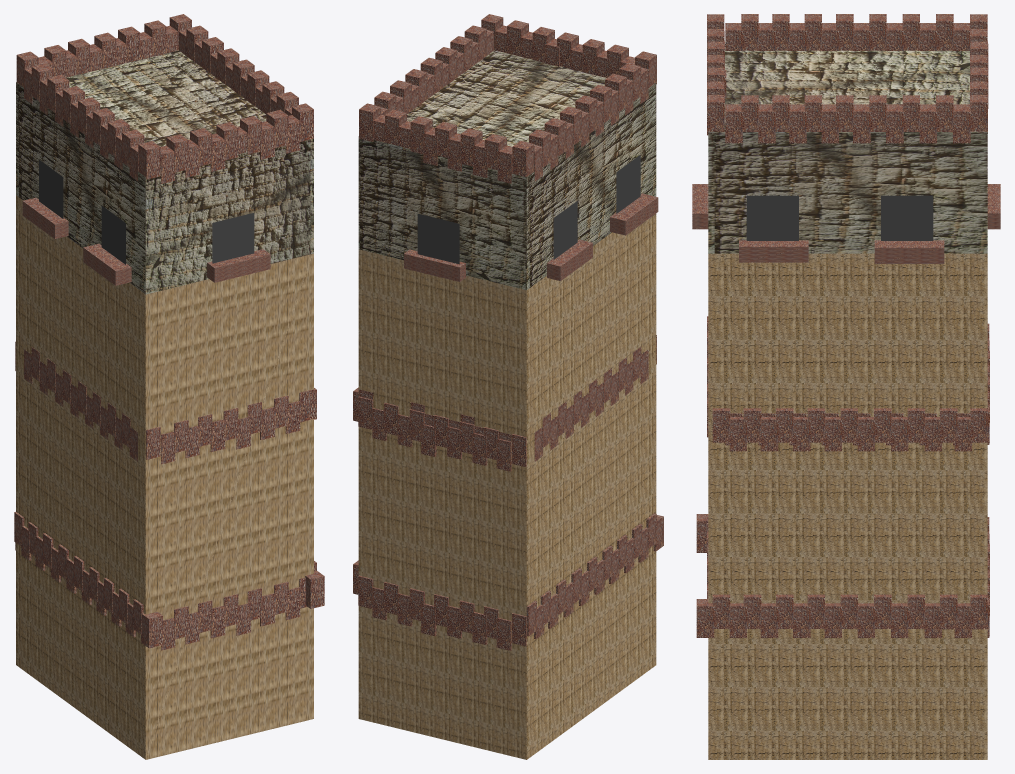
The model's file is Sumerian_Tower.fbx.
3 renders of one model, left to right at view 1: azimuth 30°, elevation 25°; view 2: azimuth 150°, elevation 25°; view 3: azimuth 270°, elevation 25°, orthographic. The views are drawn at different scales.
Visible parts, largest first — view 1: Cube, Cube.057, Plane.004, Cube.059, Cube.062, Cube.063, Plane.005, Plane.006, Cube.014, Cube.678, Cube.677, Cube.018 (+11 smaller); view 2: Cube, Cube.057, Plane.007, Cube.062, Cube.061, Cube.063, Plane.005, Plane.006, Cube.013, Cube.001, Cube.005, Cube.012 (+5 smaller); view 3: Cube, Cube.057, Plane, Plane.001, Cube.058, Cube.060, Cube.059, Cube.040, Cube.027, Cube.035, Cube.036, Cube.677 (+55 smaller).
Boxes of the visible parts, bbox=[...] form: Cube: bbox=[16, 195, 313, 759]; Cube.057: bbox=[16, 50, 313, 294]; Plane.004: bbox=[212, 213, 254, 263]; Cube.059: bbox=[207, 249, 270, 282]; Cube.062: bbox=[83, 243, 131, 285]; Cube.063: bbox=[22, 197, 68, 238]; Plane.005: bbox=[101, 205, 125, 264]; Plane.006: bbox=[39, 159, 63, 218]; Cube.014: bbox=[138, 141, 160, 179]; Cube.678: bbox=[141, 612, 162, 648]; Cube.677: bbox=[305, 571, 324, 608]; Cube.018: bbox=[166, 134, 188, 172]; Cube: bbox=[358, 213, 656, 759]; Cube.057: bbox=[358, 50, 656, 290]; Plane.007: bbox=[417, 213, 459, 264]; Cube.062: bbox=[610, 193, 658, 235]; Cube.061: bbox=[404, 249, 465, 281]; Cube.063: bbox=[547, 239, 592, 280]; Plane.005: bbox=[616, 155, 640, 213]; Plane.006: bbox=[553, 201, 577, 259]; Cube.013: bbox=[512, 140, 534, 176]; Cube.001: bbox=[359, 103, 381, 141]; Cube.005: bbox=[410, 116, 432, 154]; Cube.012: bbox=[460, 128, 482, 166]; Cube: bbox=[708, 253, 987, 759]; Cube.057: bbox=[708, 44, 987, 253]; Plane: bbox=[881, 195, 933, 240]; Plane.001: bbox=[746, 195, 798, 240]; Cube.058: bbox=[874, 240, 944, 263]; Cube.060: bbox=[739, 240, 808, 262]; Cube.059: bbox=[692, 184, 708, 229]; Cube.040: bbox=[953, 104, 970, 143]; Cube.027: bbox=[725, 104, 742, 143]; Cube.035: bbox=[853, 104, 870, 143]; Cube.036: bbox=[886, 104, 903, 143]; Cube.677: bbox=[696, 599, 714, 637].
Size of the model in its own units: 355 by 1039 by 442.
